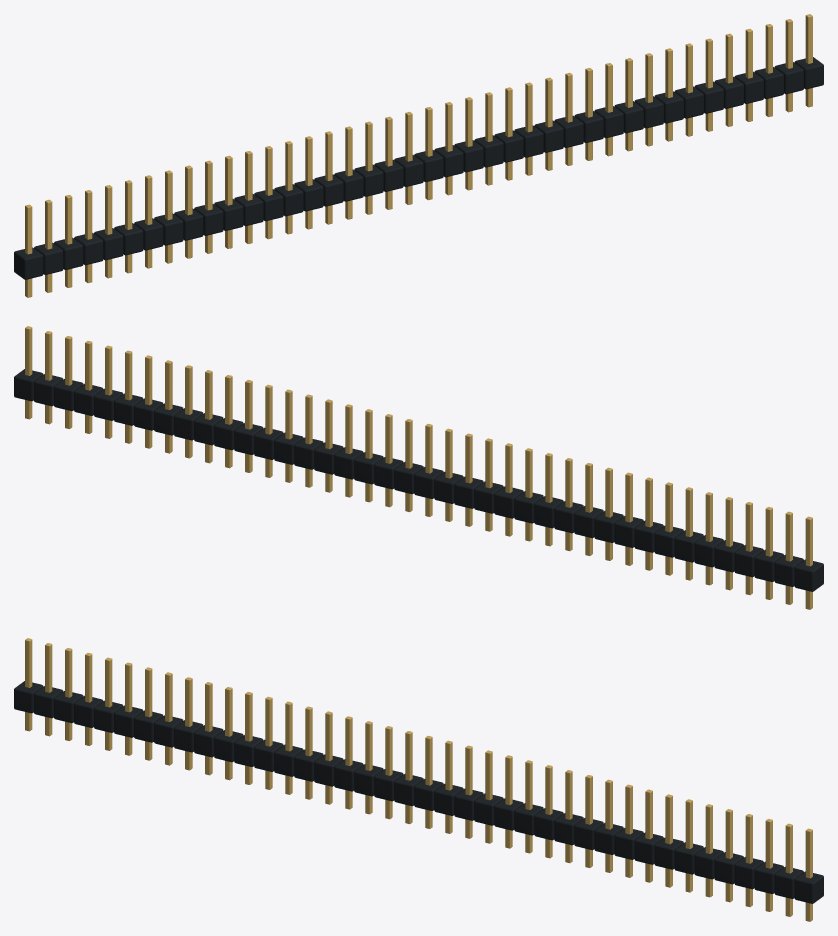
The model's file is headers.glb.
3 renders of one model, top to bottom at view 1: azimuth 30°, elevation 25°; view 2: azimuth 150°, elevation 25°; view 3: azimuth 330°, elevation 25°, orthographic.
Parts seen in each view (by area): view 1: headers / Black, headers / Gold; view 2: headers / Black, headers / Gold; view 3: headers / Black, headers / Gold.
Part boxes in pixels (x1,y1,x2,y2): headers / Black: (14, 57, 823, 279); headers / Gold: (25, 14, 812, 297); headers / Black: (14, 369, 823, 591); headers / Gold: (25, 326, 812, 609); headers / Black: (14, 681, 823, 903); headers / Gold: (25, 638, 812, 921).
Bounding box in the file's own units: 102 × 11 × 2.54.
